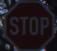Stop sign: (0, 1, 56, 50)
